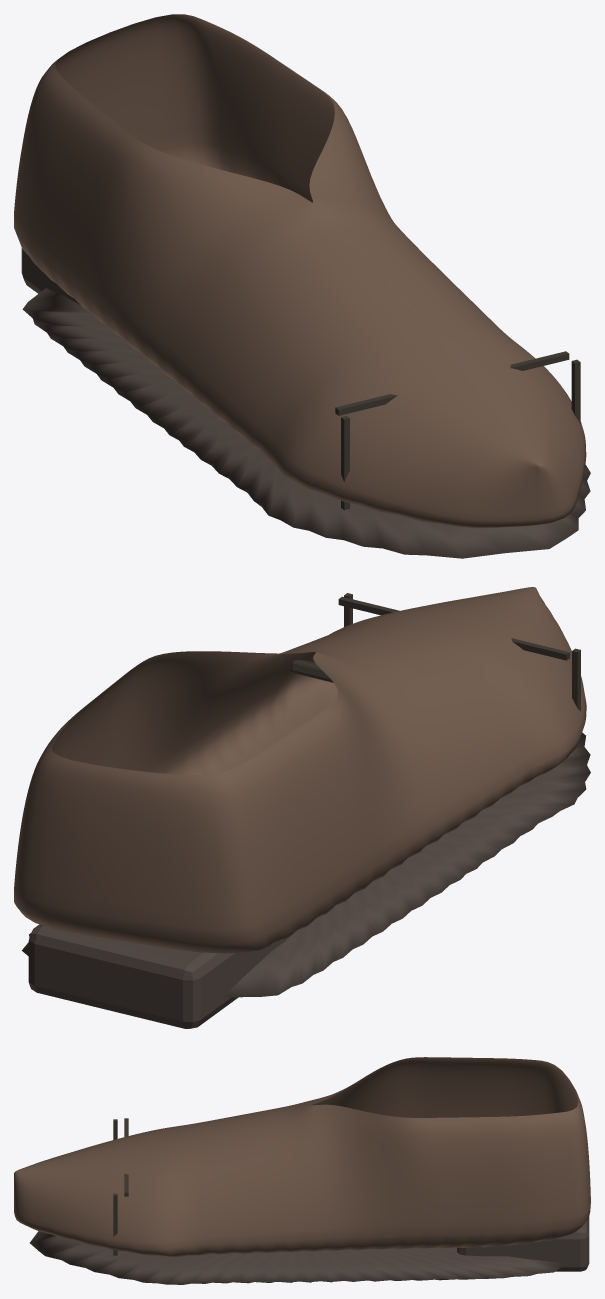
File: shoe_oxford.glb
3 renders of one model, top to bottom at view 1: azimuth 30°, elevation 25°; view 2: azimuth 150°, elevation 25°; view 3: azimuth 270°, elevation 25°, orthographic. The views are drawn at different scales.
Visible parts, largest first — view 1: upper, sole, Cube.003, Cube; view 2: upper, sole, Cube, Cube.003; view 3: upper, sole, Cube.
Boxes of the visible parts, x1=… form: upper: x1=14, y1=14, x2=586, y2=528; sole: x1=22, y1=288, x2=590, y2=558; Cube.003: x1=335, y1=351, x2=569, y2=415; Cube: x1=21, y1=248, x2=80, y2=304; upper: x1=14, y1=587, x2=586, y2=953; sole: x1=22, y1=732, x2=590, y2=997; Cube: x1=28, y1=924, x2=286, y2=1028; Cube.003: x1=338, y1=596, x2=569, y2=660; upper: x1=14, y1=1057, x2=590, y2=1256; sole: x1=30, y1=1231, x2=563, y2=1284; Cube: x1=457, y1=1217, x2=589, y2=1271.
Bounding box in the file's own units: 0.1061 × 0.08 × 0.2619.
